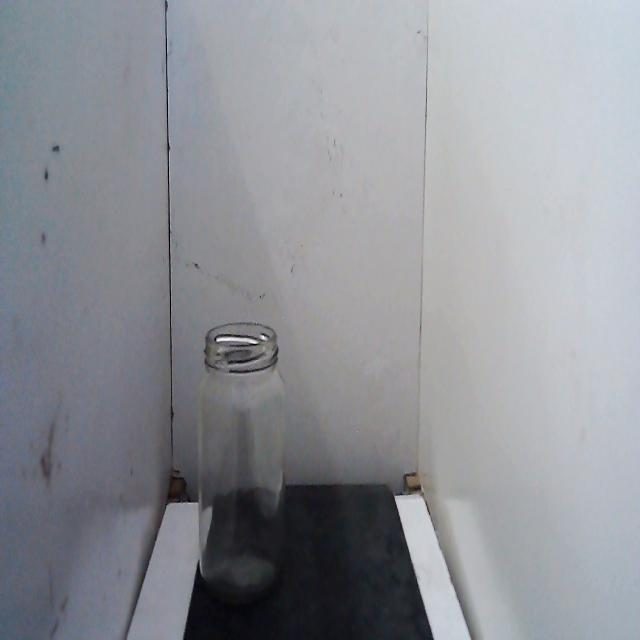vidro: (193, 316, 292, 612)
